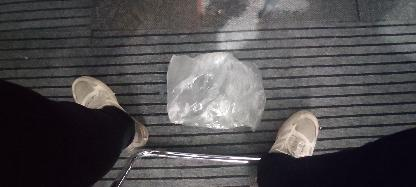Plastic Bag: (167, 52, 266, 130)
